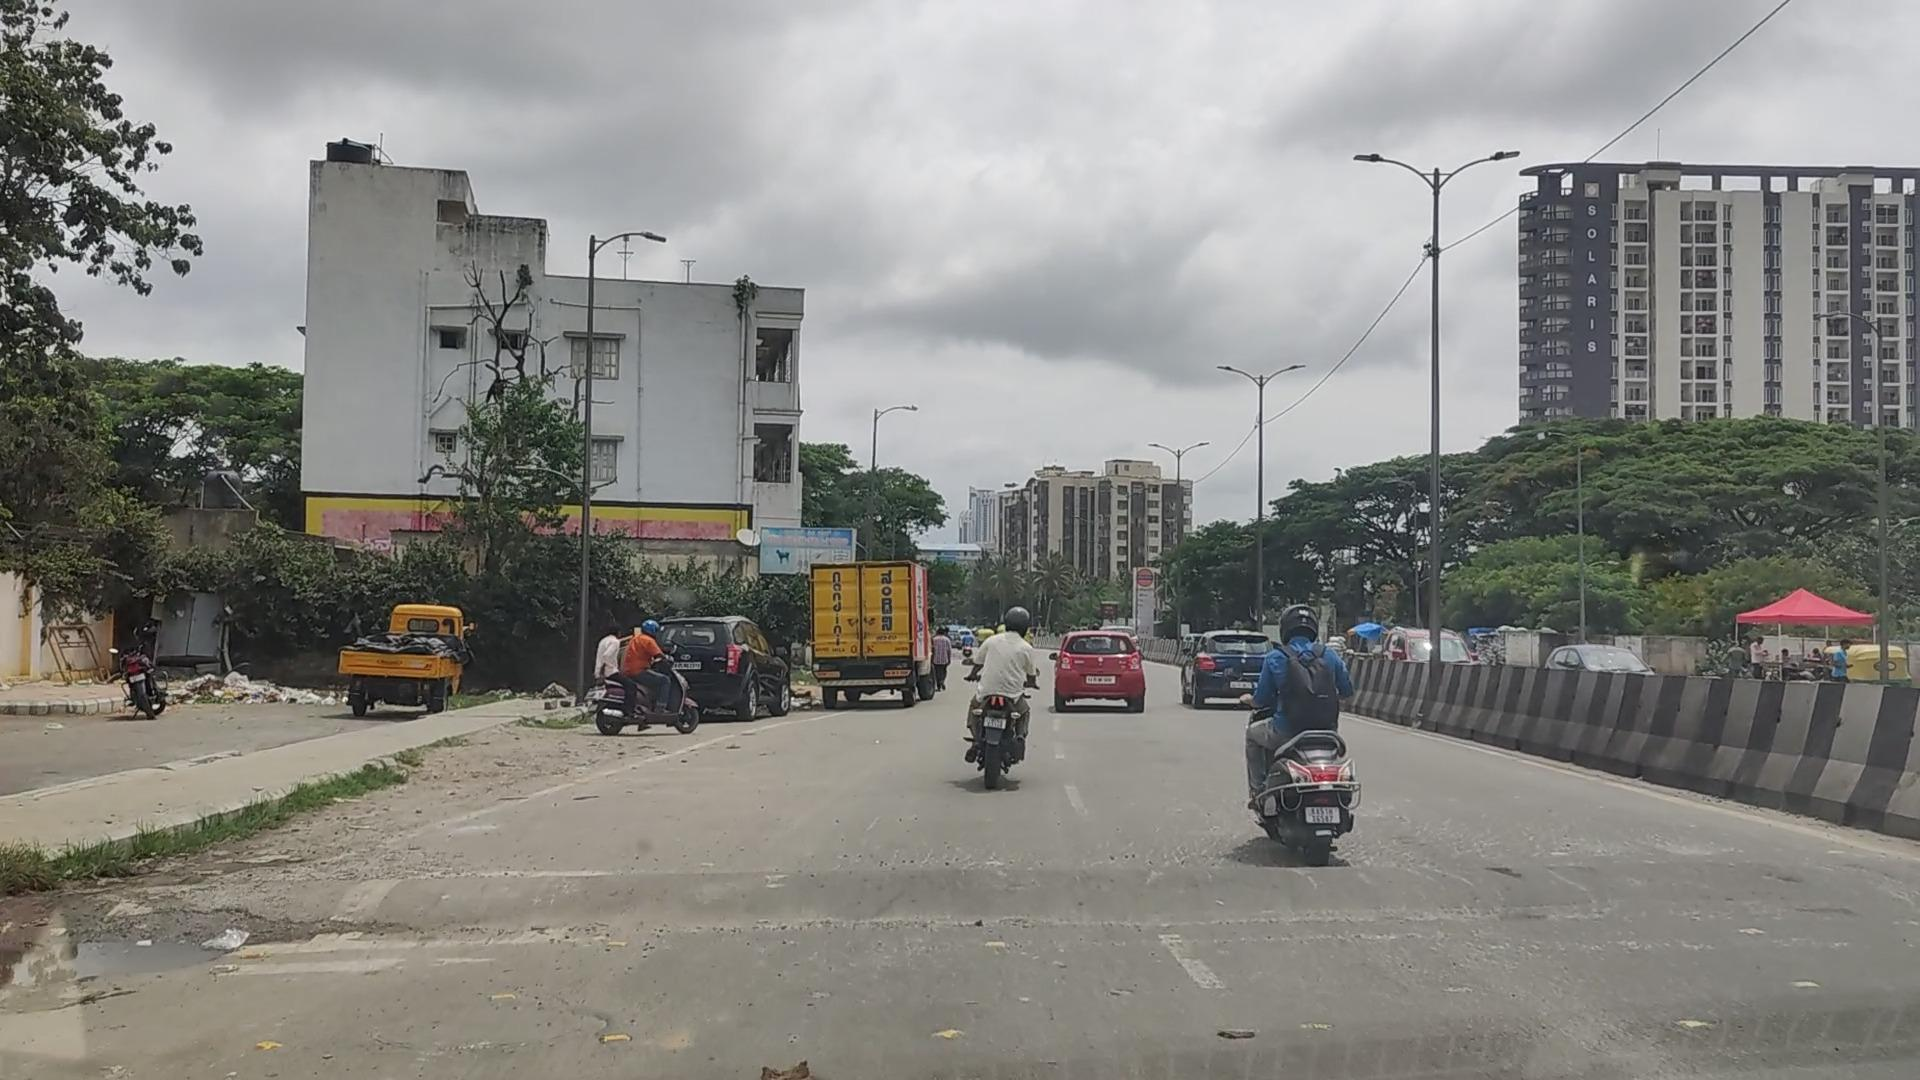HMV: (816, 560, 923, 684)
LMV: (1246, 609, 1353, 852), (978, 615, 1036, 778), (1059, 638, 1139, 709)
RoadDamages: (29, 890, 409, 982)
SpeedBump: (332, 847, 1807, 943)
